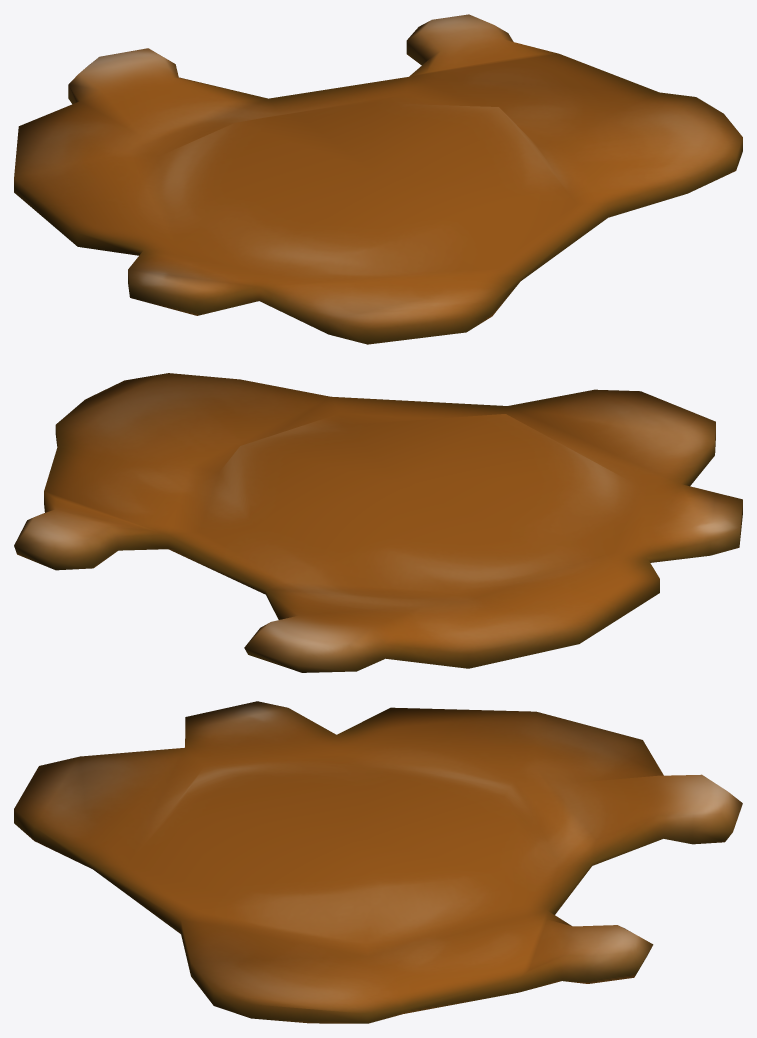
The model's file is Honey.fbx.
3 renders of one model, top to bottom at view 1: azimuth 30°, elevation 25°; view 2: azimuth 150°, elevation 25°; view 3: azimuth 270°, elevation 25°, orthographic.
Visible parts, largest first — view 1: honey; view 2: honey; view 3: honey.
Part boxes in pixels (<box>): honey: <box>14,14,742,344</box>; honey: <box>14,373,742,672</box>; honey: <box>14,701,742,1023</box>.
Bounding box in the file's own units: 23.18 × 1.44 × 23.16.
Materials: 1 (1 with a texture image).
